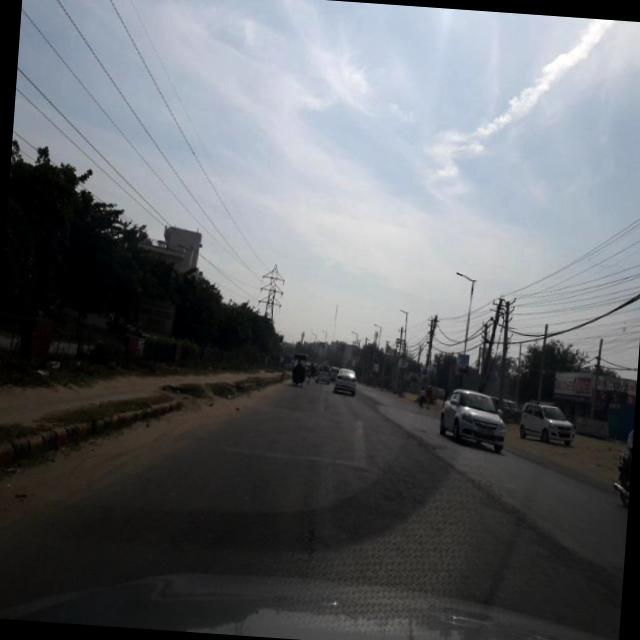crack: (290, 472, 328, 578)
